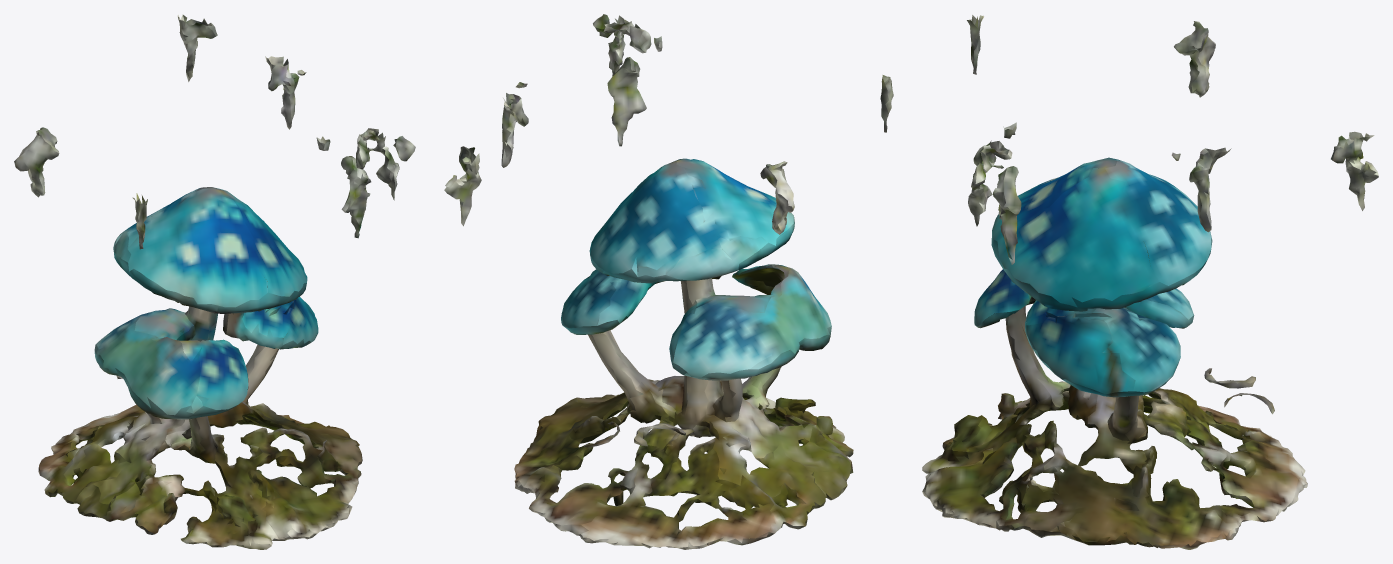
Rendered from F3D_15_Mushrooms.fbx.
The picture shows the model from 3 angles, left to right: view 1: azimuth 30°, elevation 25°; view 2: azimuth 150°, elevation 25°; view 3: azimuth 270°, elevation 25°; orthographic projection. The views are drawn at different scales.
Visible parts, largest first — view 1: F3D_15_Mushrooms; view 2: F3D_15_Mushrooms; view 3: F3D_15_Mushrooms.
Part boxes in pixels (x1,y1,x2,y2): F3D_15_Mushrooms: (14, 14, 415, 549); F3D_15_Mushrooms: (444, 14, 893, 549); F3D_15_Mushrooms: (922, 15, 1378, 549).
Size of the model in its own units: 0.8387 by 1 by 1.01.
1 material, 1 textured.
